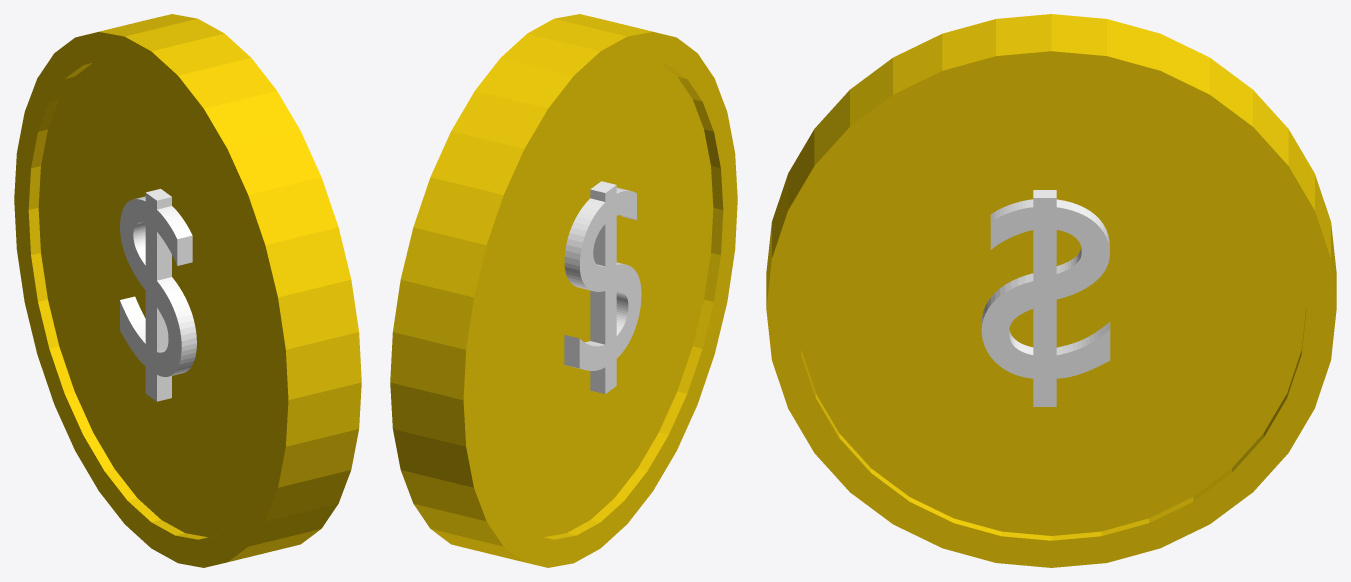
Rendered from coin.fbx.
The picture shows the model from 3 angles, left to right: view 1: azimuth 30°, elevation 25°; view 2: azimuth 150°, elevation 25°; view 3: azimuth 270°, elevation 25°; orthographic projection. The views are drawn at different scales.
Visible parts, largest first — view 1: Cylinder, Text; view 2: Cylinder, Text; view 3: Cylinder, Text.001.
Boxes of the visible parts, x1,y1,x2,y2 form: Cylinder: (14, 14, 361, 567); Text: (120, 189, 196, 401); Cylinder: (390, 14, 737, 567); Text: (564, 181, 641, 393); Cylinder: (766, 14, 1336, 567); Text.001: (981, 190, 1110, 406).
Bounding box in the file's own units: 35.69 × 200 × 200.
